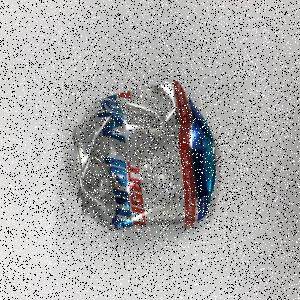Can: (72, 80, 218, 234)
